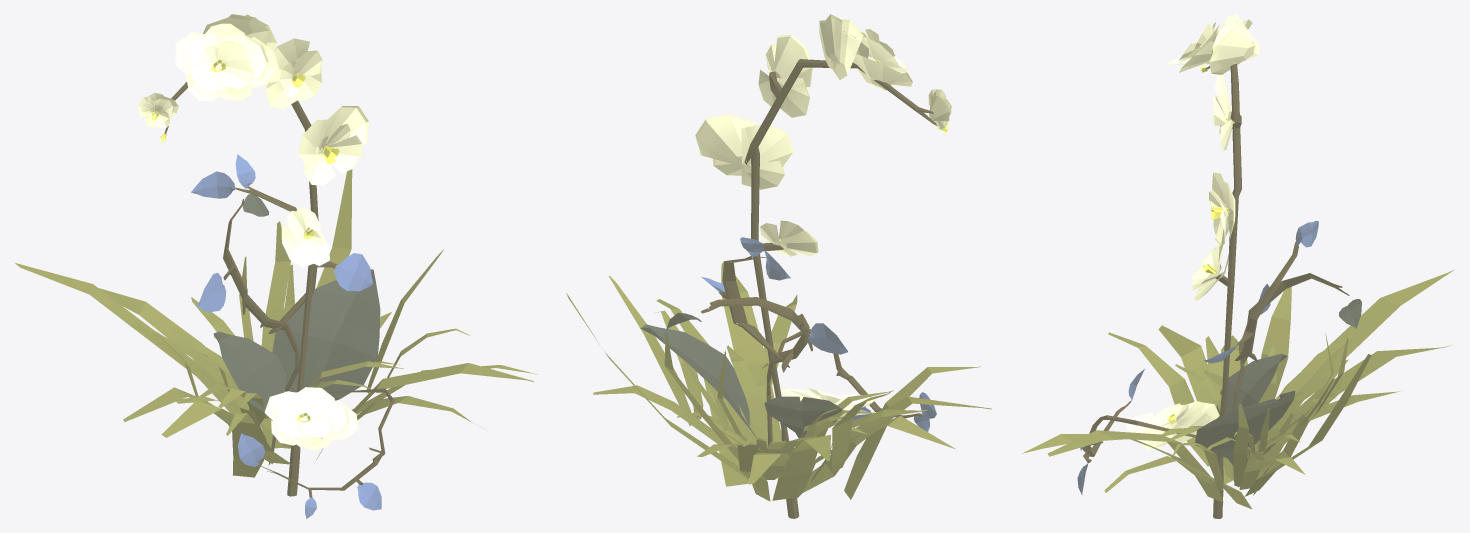
Rendered from flower05.glb.
The picture shows the model from 3 angles, left to right: view 1: azimuth 30°, elevation 25°; view 2: azimuth 150°, elevation 25°; view 3: azimuth 270°, elevation 25°; orthographic projection. The views are drawn at different scales.
Parts seen in each view (by area): view 1: base, flower_vine, hanging_vine; view 2: base, flower_vine, hanging_vine; view 3: base, flower_vine, hanging_vine.
Boxes of the visible parts, bbox=[...] form: base: bbox=[14, 154, 536, 477]; flower_vine: bbox=[138, 14, 368, 496]; hanging_vine: bbox=[238, 388, 394, 518]; base: bbox=[566, 237, 991, 502]; flower_vine: bbox=[695, 14, 951, 518]; hanging_vine: bbox=[766, 328, 936, 431]; base: bbox=[1022, 221, 1453, 509]; flower_vine: bbox=[1125, 14, 1259, 518]; hanging_vine: bbox=[1077, 369, 1196, 494].
Bounding box in the file's own units: 0.7581 × 1.01 × 0.8426.
1 material, 1 textured.
